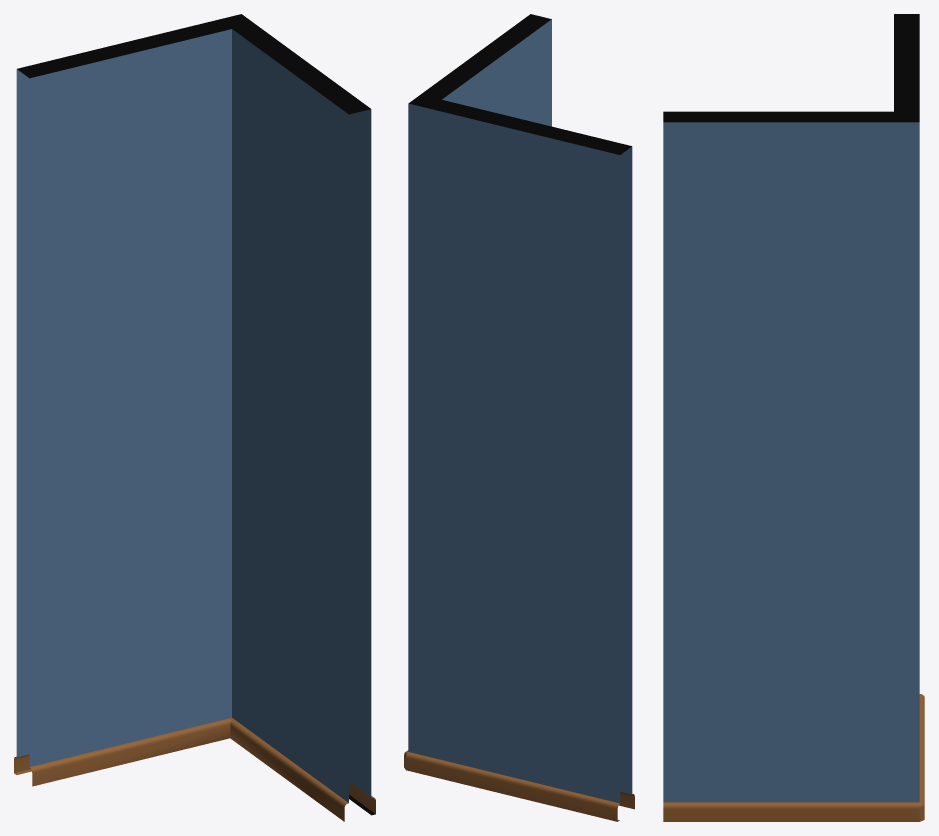
The model's file is SM_Corner.fbx.
3 renders of one model, left to right at view 1: azimuth 30°, elevation 25°; view 2: azimuth 150°, elevation 25°; view 3: azimuth 270°, elevation 25°, orthographic. The views are drawn at different scales.
Visible parts, largest first — view 1: SM_Cornerpiece; view 2: SM_Cornerpiece; view 3: SM_Cornerpiece.
Part boxes in pixels (x1,y1,x2,y2): SM_Cornerpiece: (14,14,375,821); SM_Cornerpiece: (404,14,634,821); SM_Cornerpiece: (663,14,924,821).
Size of the model in its own units: 201 by 591 by 201.
